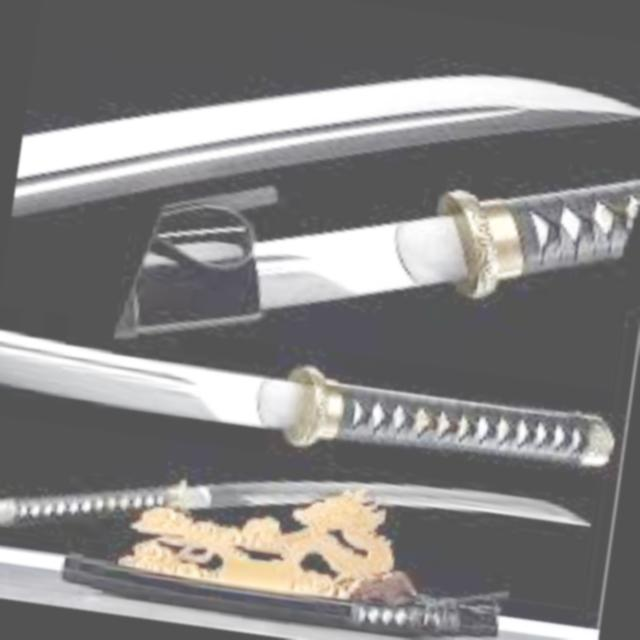long sword: (0, 421, 597, 603), (38, 5, 640, 182), (0, 327, 622, 484), (262, 167, 640, 316)
